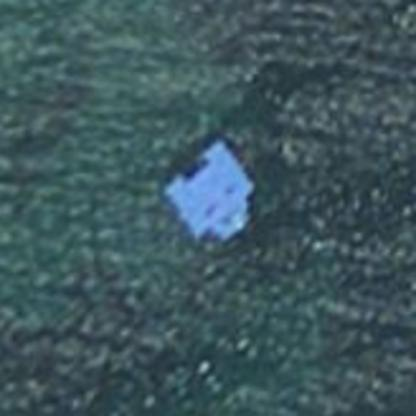ship: (156, 132, 266, 254)
